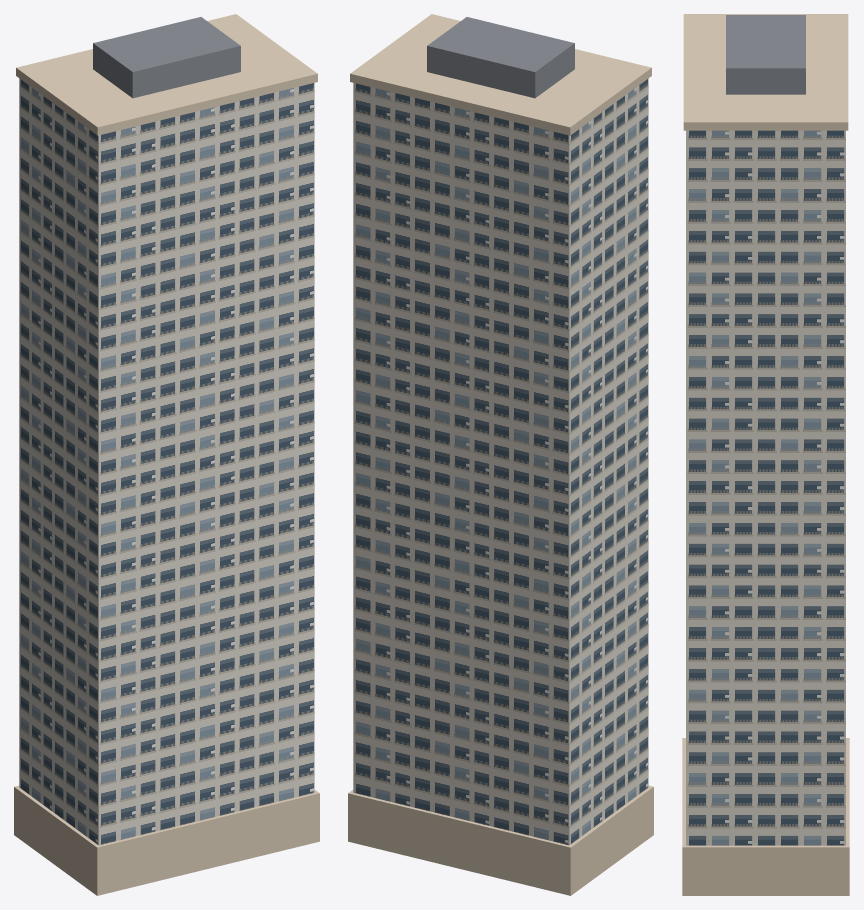
The model's file is day_tower_c.glb.
The picture shows the model from 3 angles, left to right: view 1: azimuth 30°, elevation 25°; view 2: azimuth 150°, elevation 25°; view 3: azimuth 270°, elevation 25°; orthographic projection.
Visible parts, largest first — view 1: daytower; view 2: daytower; view 3: daytower.
Boxes of the visible parts, left/top/right/bottom form: daytower: left=14, top=14, right=319, bottom=895; daytower: left=348, top=14, right=653, bottom=895; daytower: left=682, top=14, right=849, bottom=895.
Bounding box in the file's own units: 33.76 × 115 × 21.83.
3 materials, 1 textured.
